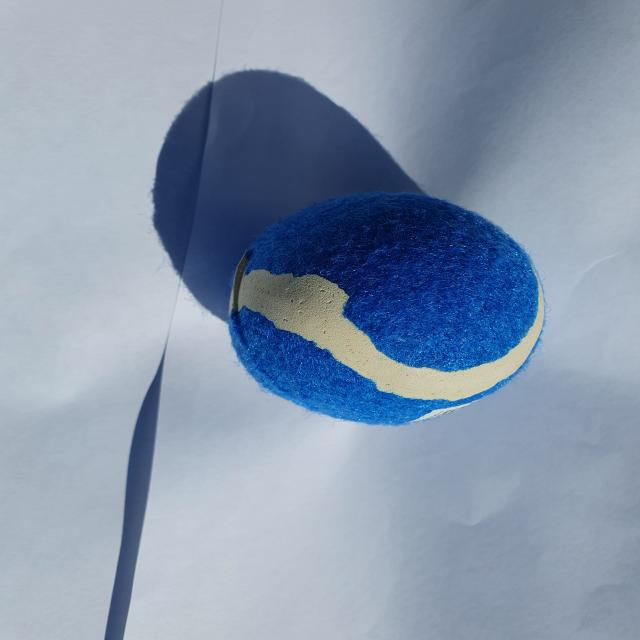blue: (228, 189, 545, 428)
